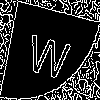W: (24, 24, 74, 81)
